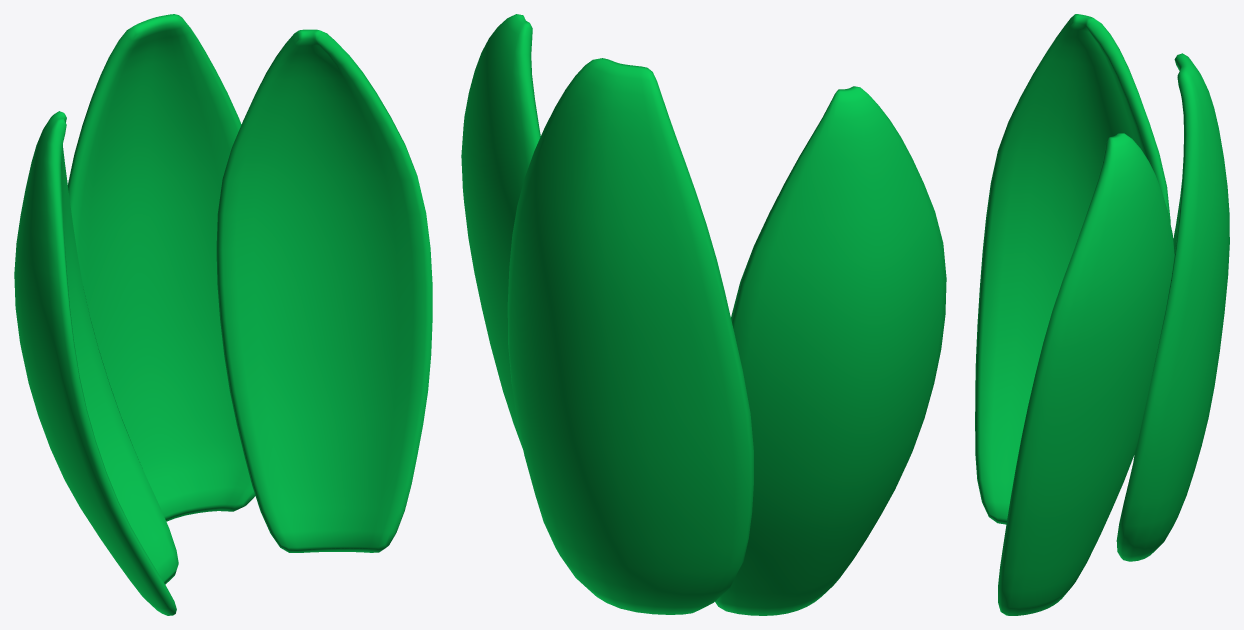
Rendered from Corn_Leaves.fbx.
The picture shows the model from 3 angles, left to right: view 1: azimuth 30°, elevation 25°; view 2: azimuth 150°, elevation 25°; view 3: azimuth 270°, elevation 25°; orthographic projection. The views are drawn at different scales.
Parts seen in each view (by area): view 1: Corn_Leaf_01, Corn_Leaf_02, Corn_Leaf_03; view 2: Corn_Leaf_02, Corn_Leaf_03, Corn_Leaf_01; view 3: Corn_Leaf_01, Corn_Leaf_03, Corn_Leaf_02.
Part boxes in pixels (left/top/right/bottom): Corn_Leaf_01: left=216, top=29, right=432, bottom=552; Corn_Leaf_02: left=68, top=14, right=255, bottom=521; Corn_Leaf_03: left=14, top=111, right=178, bottom=615; Corn_Leaf_02: left=507, top=58, right=753, bottom=614; Corn_Leaf_03: left=715, top=86, right=946, bottom=615; Corn_Leaf_01: left=461, top=14, right=540, bottom=448; Corn_Leaf_01: left=998, top=133, right=1174, bottom=615; Corn_Leaf_03: left=975, top=14, right=1170, bottom=524; Corn_Leaf_02: left=1116, top=53, right=1229, bottom=561.
Size of the model in its own units: 1393 by 1727 by 797.
